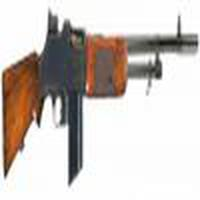gun: (2, 34, 199, 167)
